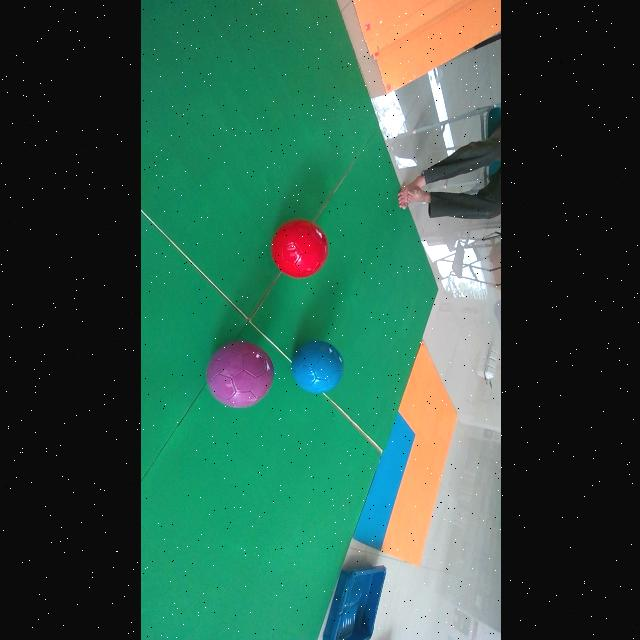B: (291, 340, 343, 394)
P: (206, 341, 271, 408)
R: (270, 219, 326, 278)
